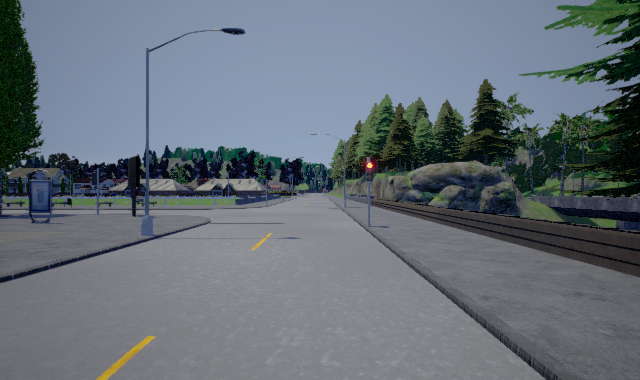traffic_light: (365, 161, 373, 181)
